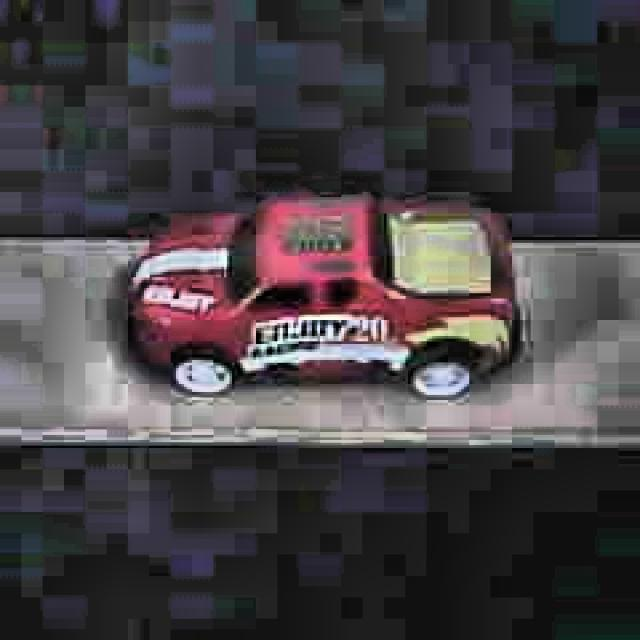car: (126, 188, 520, 402)
